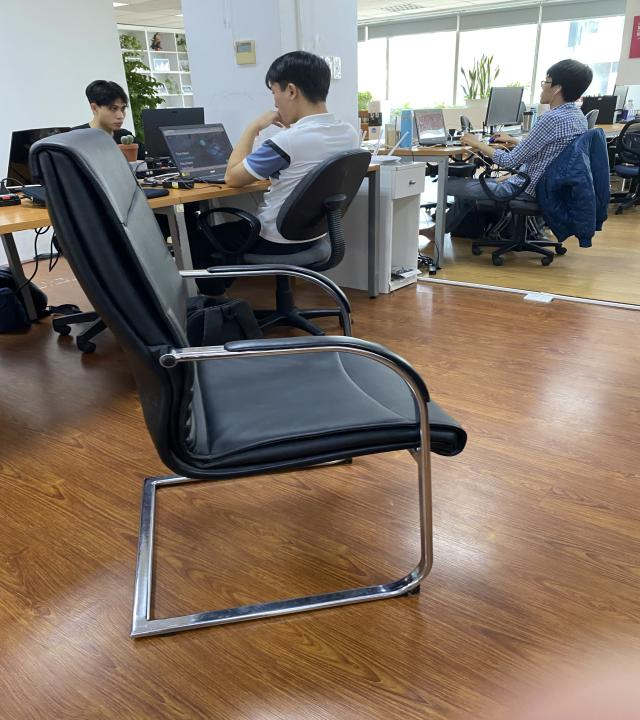SS_03: (23, 122, 470, 641)
